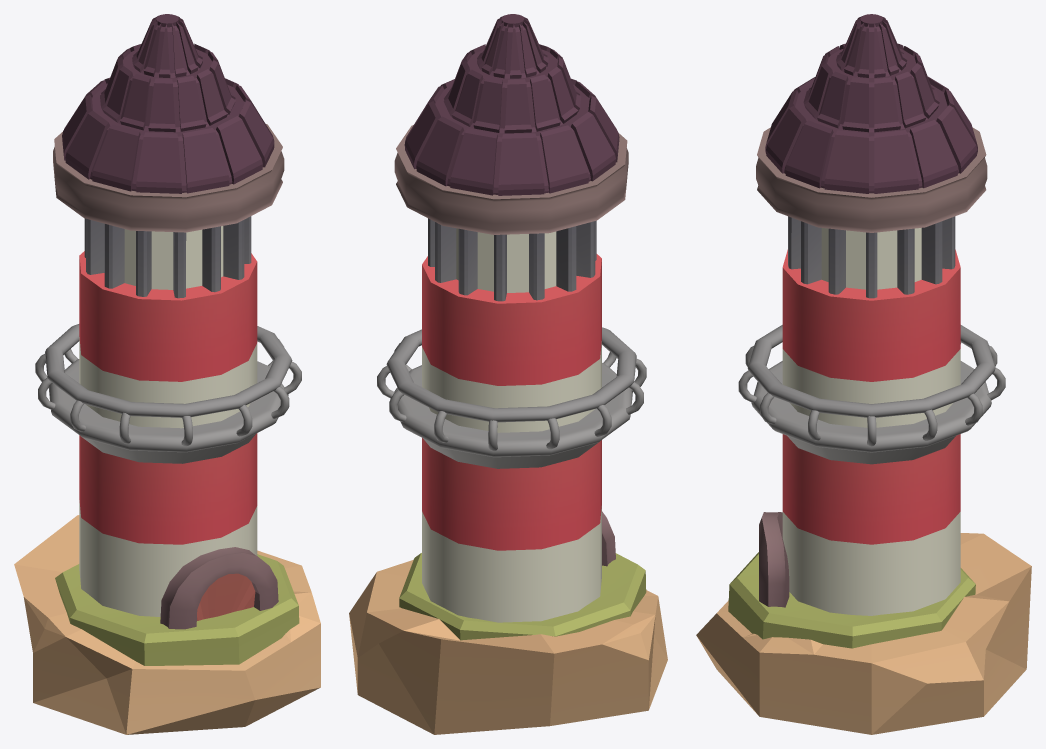
File: faro (1).fbx
The picture shows the model from 3 angles, left to right: view 1: azimuth 30°, elevation 25°; view 2: azimuth 150°, elevation 25°; view 3: azimuth 270°, elevation 25°; orthographic projection.
Visible parts, largest first — view 1: pCylinder3; view 2: pCylinder3; view 3: pCylinder3.
Part boxes in pixels (<box>): pCylinder3: <box>14,14,320,734</box>; pCylinder3: <box>349,14,667,734</box>; pCylinder3: <box>696,14,1031,734</box>.
Bounding box in the file's own units: 23.95 × 55.43 × 25.93.
